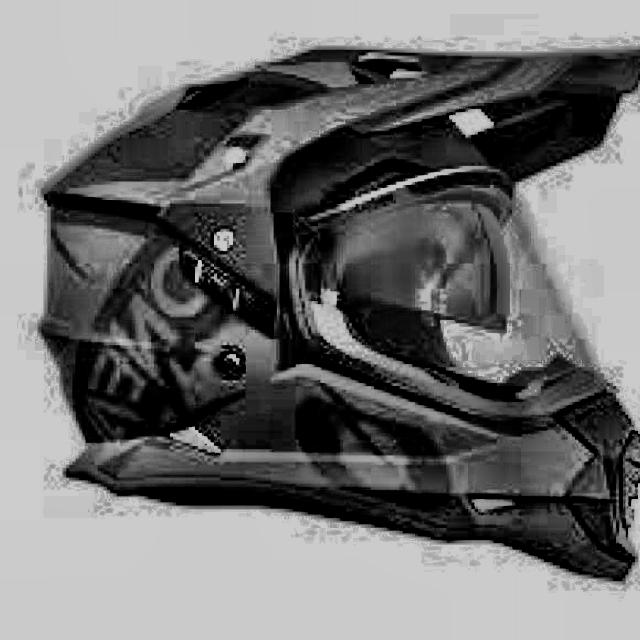Helmet: (31, 33, 640, 587)
